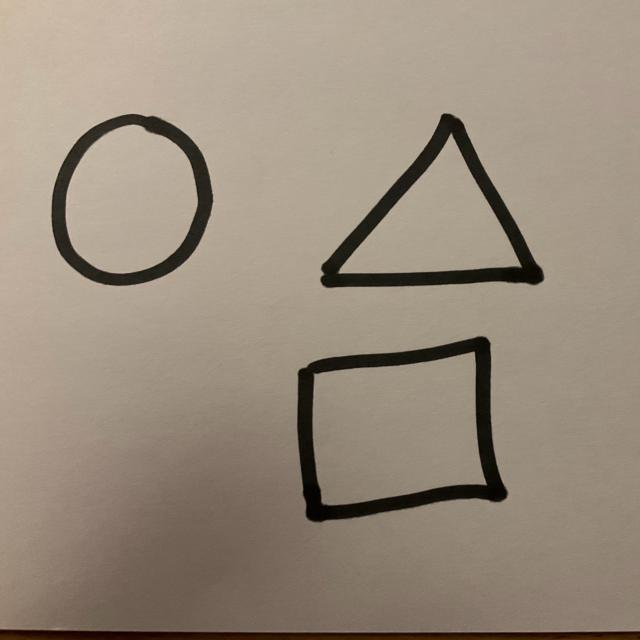Dreieck: (320, 113, 545, 291)
Kreis: (48, 114, 215, 290)
Quadrat: (295, 338, 508, 525)
